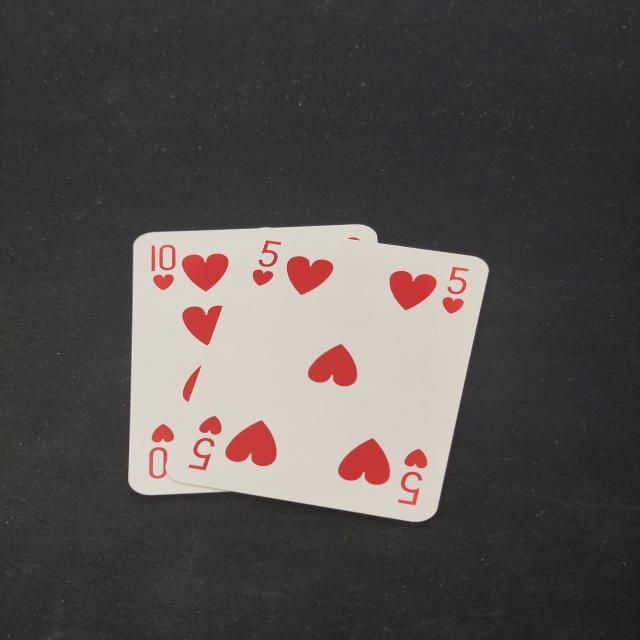10h: (143, 417, 181, 482), (143, 237, 181, 295)
5h: (393, 439, 433, 516), (184, 414, 226, 476), (433, 264, 477, 323), (248, 235, 290, 295)
